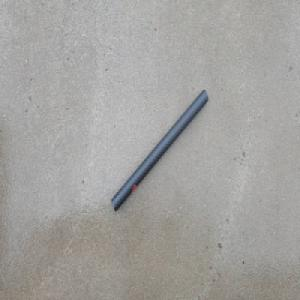LuggagePart: (110, 88, 208, 213)
